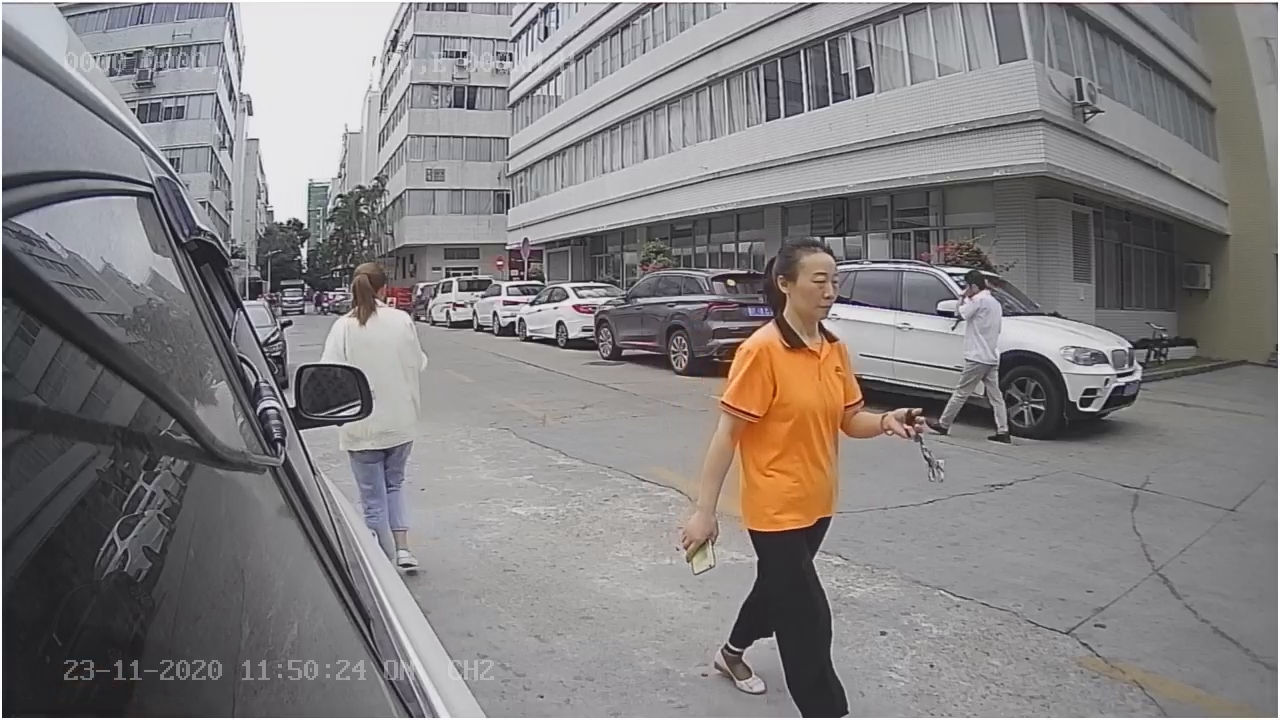person: (680, 220, 932, 720), (315, 246, 427, 364)
